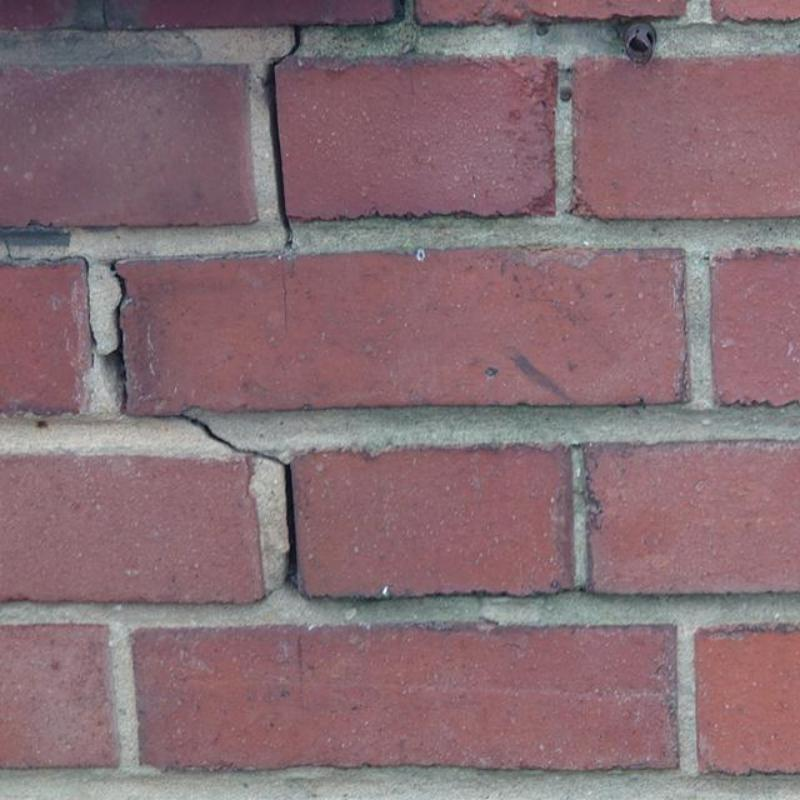pothole: (178, 413, 298, 587), (266, 27, 300, 249), (38, 255, 98, 365), (104, 259, 127, 415), (4, 240, 31, 261)
